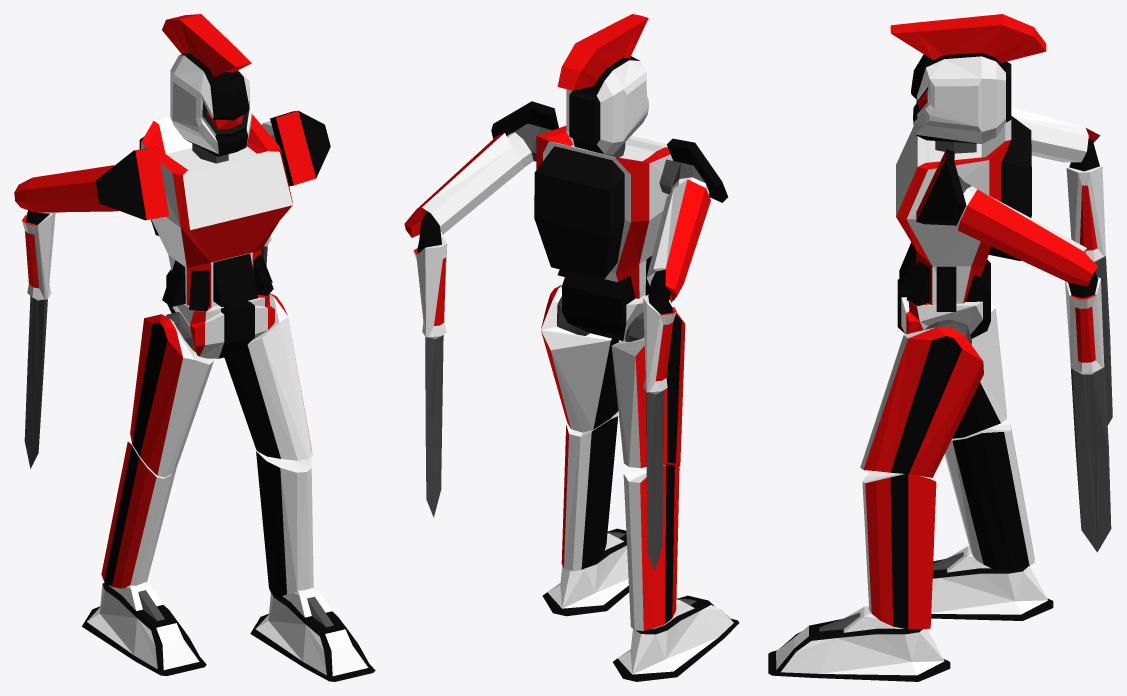
The model's file is robots_000021.obj.
The picture shows the model from 3 angles, left to right: view 1: azimuth 30°, elevation 25°; view 2: azimuth 150°, elevation 25°; view 3: azimuth 270°, elevation 25°; orthographic projection. The views are drawn at different scales.
Visible parts, largest first — view 1: Chest_plate_Cube.004, Head_gladiator_Cube.024, R_Thigh_Cube.005, R_Forearm.001_Cube.028, R_Thigh.002_Cube.027, R_Shin.002_Cube.029, R_Foot_Cube, R_Foot.002_Cube.035, R_Shin_Cube.007, Pelvis_Cube.006, R_Arm.002_Cube.032, R_Arm.003_Cube.034; view 2: Chest_plate_Cube.004, R_Forearm.002_Cube.033, R_Forearm.001_Cube.028, Head_gladiator_Cube.024, R_Shin_Cube.007, R_Shin.002_Cube.029, R_Thigh.002_Cube.027, R_Thigh_Cube.005, R_Foot_Cube, R_Foot.002_Cube.035, Pelvis_Cube.006, R_Arm.002_Cube.032 (+1 smaller); view 3: R_Forearm.002_Cube.033, Chest_plate_Cube.004, Head_gladiator_Cube.024, R_Thigh.002_Cube.027, R_Shin.002_Cube.029, R_Shin_Cube.007, R_Foot.002_Cube.035, R_Forearm.001_Cube.028, R_Foot_Cube, R_Thigh_Cube.005, Pelvis_Cube.006, R_Arm.003_Cube.034.
Boxes of the visible parts, left/top/right/bottom form: Chest_plate_Cube.004: left=139, top=114, right=292, bottom=311; Head_gladiator_Cube.024: left=162, top=14, right=252, bottom=156; R_Thigh_Cube.005: left=130, top=314, right=214, bottom=477; R_Forearm.001_Cube.028: left=14, top=165, right=118, bottom=468; R_Thigh.002_Cube.027: left=224, top=293, right=312, bottom=460; R_Shin.002_Cube.029: left=256, top=449, right=313, bottom=597; R_Foot_Cube: left=82, top=582, right=206, bottom=675; R_Foot.002_Cube.035: left=250, top=587, right=375, bottom=681; R_Shin_Cube.007: left=101, top=441, right=177, bottom=588; Pelvis_Cube.006: left=166, top=269, right=274, bottom=358; R_Arm.002_Cube.032: left=95, top=146, right=168, bottom=220; R_Arm.003_Cube.034: left=270, top=110, right=330, bottom=186; Chest_plate_Cube.004: left=534, top=126, right=672, bottom=298; R_Forearm.002_Cube.033: left=404, top=133, right=523, bottom=517; R_Forearm.001_Cube.028: left=643, top=179, right=710, bottom=571; Head_gladiator_Cube.024: left=557, top=14, right=648, bottom=154; R_Shin_Cube.007: left=623, top=464, right=679, bottom=631; R_Shin.002_Cube.029: left=561, top=413, right=618, bottom=571; R_Thigh.002_Cube.027: left=541, top=285, right=618, bottom=432; R_Thigh_Cube.005: left=611, top=312, right=685, bottom=468; R_Foot_Cube: left=613, top=595, right=739, bottom=681; R_Foot.002_Cube.035: left=542, top=528, right=629, bottom=616; Pelvis_Cube.006: left=561, top=271, right=671, bottom=341; R_Arm.002_Cube.032: left=659, top=138, right=727, bottom=202; R_Forearm.002_Cube.033: left=958, top=189, right=1111, bottom=552; Chest_plate_Cube.004: left=896, top=116, right=1031, bottom=311; Head_gladiator_Cube.024: left=890, top=14, right=1046, bottom=143; R_Thigh.002_Cube.027: left=860, top=327, right=983, bottom=477; R_Shin.002_Cube.029: left=862, top=471, right=936, bottom=629; R_Shin_Cube.007: left=944, top=419, right=1034, bottom=570; R_Foot.002_Cube.035: left=768, top=606, right=950, bottom=681; R_Forearm.001_Cube.028: left=1011, top=107, right=1112, bottom=425; R_Foot_Cube: left=931, top=546, right=1053, bottom=620; R_Thigh_Cube.005: left=952, top=298, right=1006, bottom=438; Pelvis_Cube.006: left=897, top=259, right=990, bottom=338; R_Arm.003_Cube.034: left=916, top=149, right=977, bottom=225.
Bounding box in the file's own units: 1.51 × 3.17 × 1.6.
